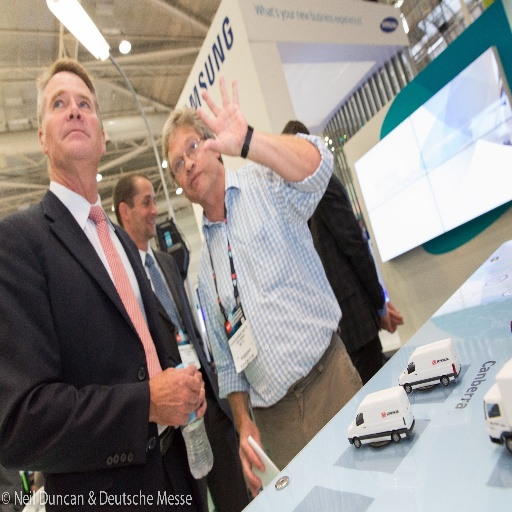hand: (200, 69, 251, 155), (150, 365, 200, 428), (234, 417, 263, 497), (189, 361, 209, 418), (378, 298, 397, 331), (385, 300, 404, 331)
